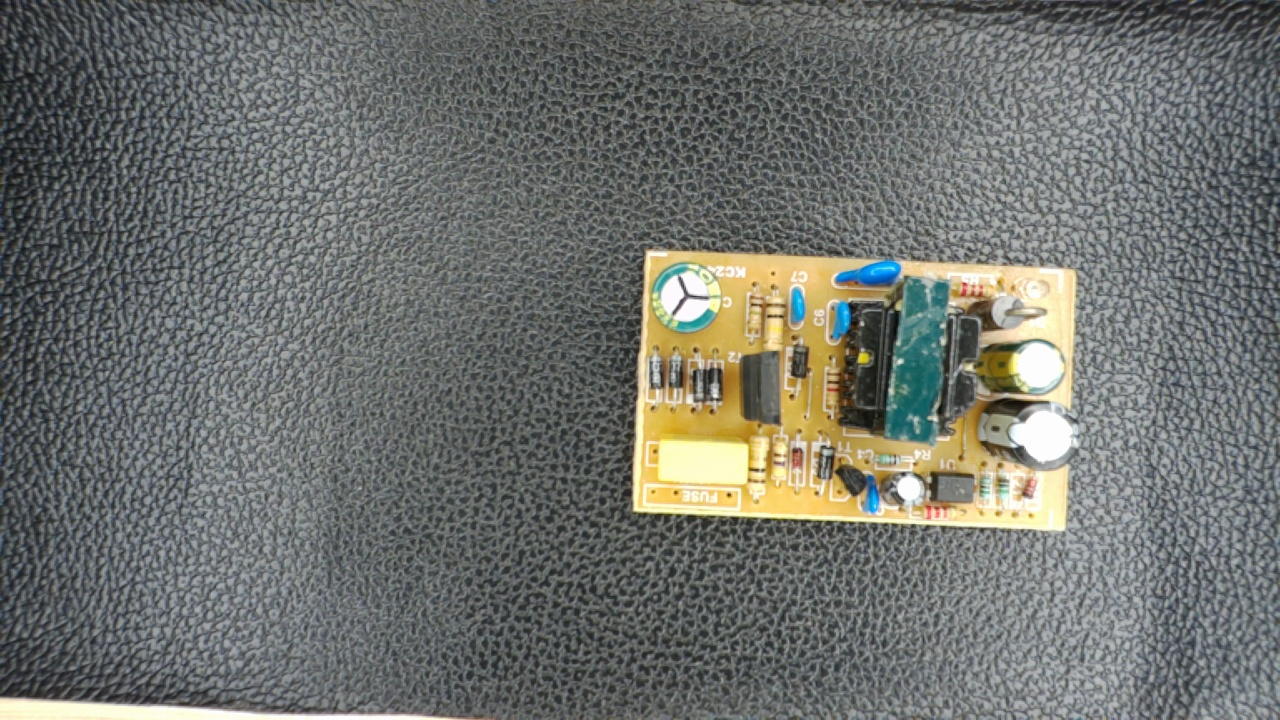hv_capacitor: (650, 263, 723, 335)
mov: (831, 260, 903, 290)
optocoupler: (924, 470, 980, 507)
